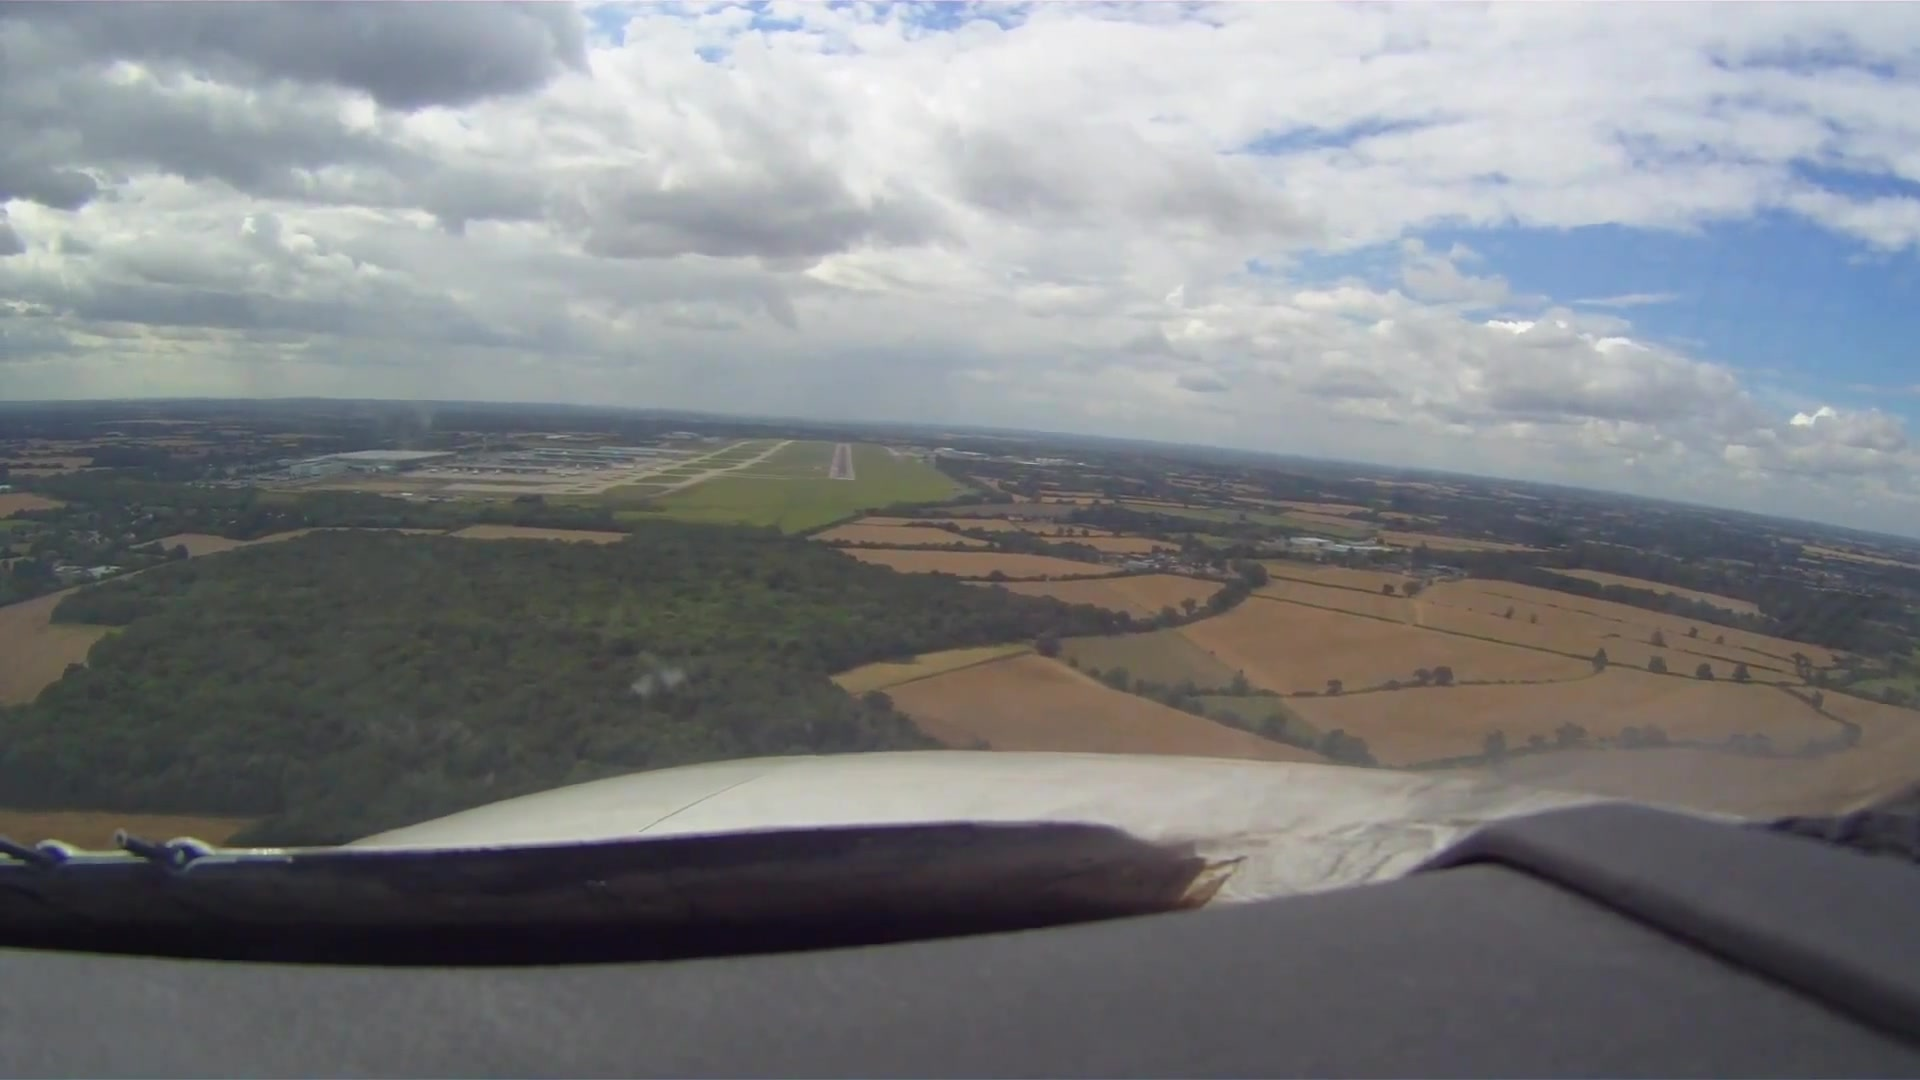runway: (825, 442, 855, 481)
